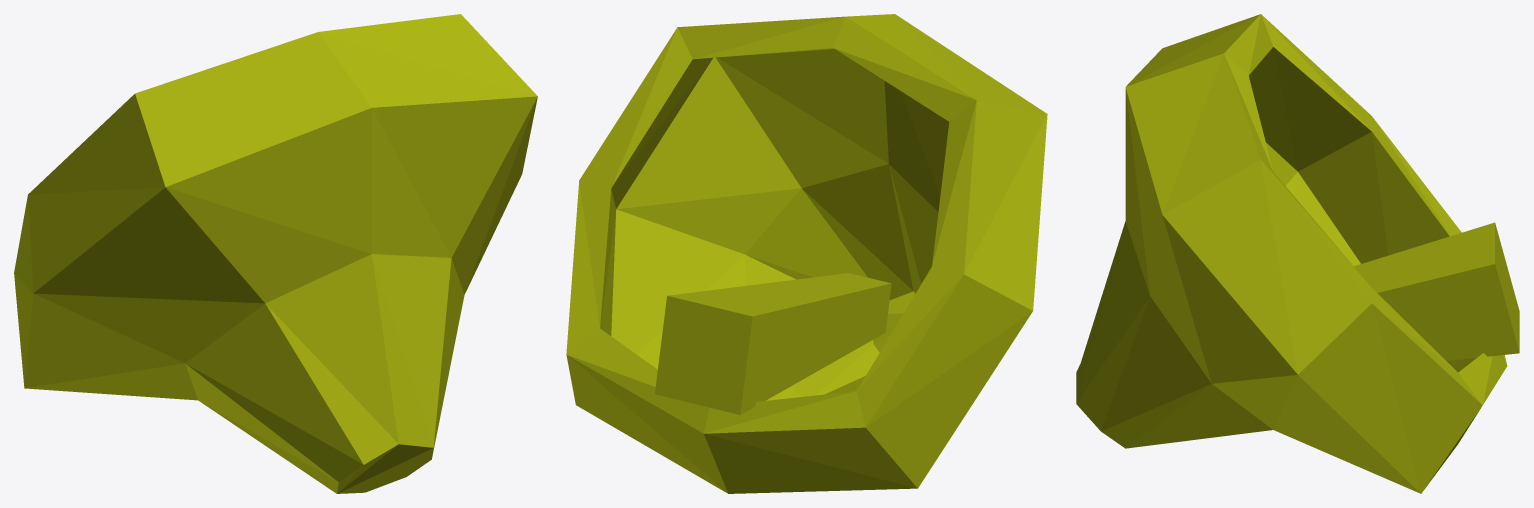
The model's file is inv_grail_bell.obj.
The picture shows the model from 3 angles, left to right: view 1: azimuth 30°, elevation 25°; view 2: azimuth 150°, elevation 25°; view 3: azimuth 270°, elevation 25°; orthographic projection. The views are drawn at different scales.
Size of the model in its own units: 0.3281 by 0.2734 by 0.2812.
